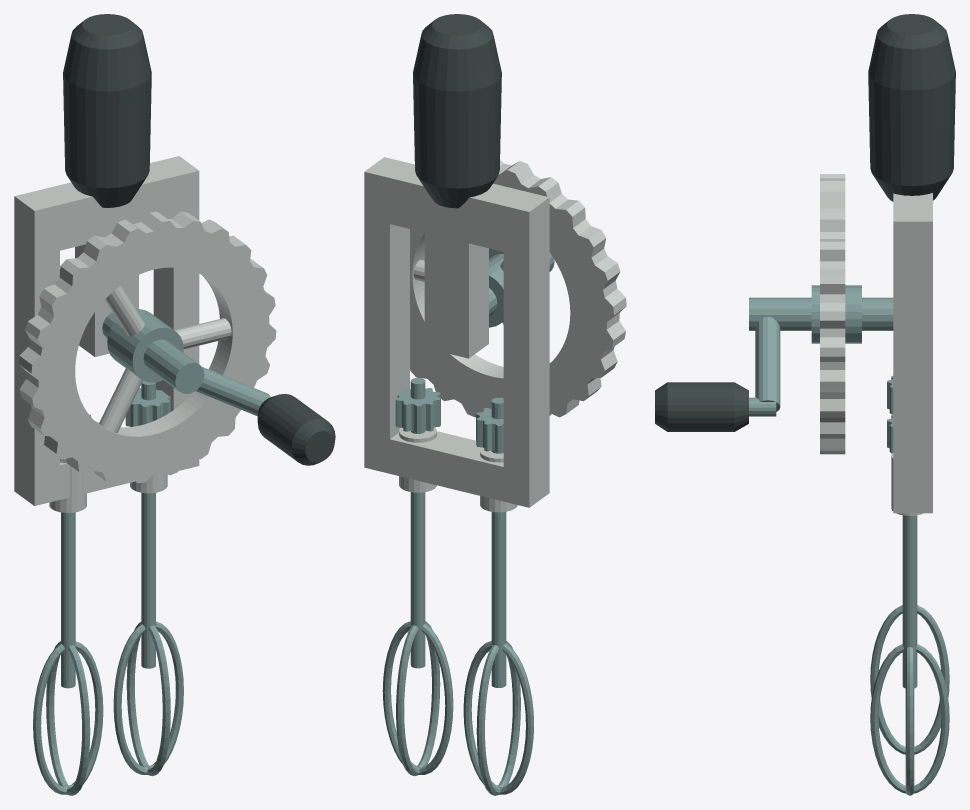
The picture shows the model from 3 angles, left to right: view 1: azimuth 30°, elevation 25°; view 2: azimuth 150°, elevation 25°; view 3: azimuth 270°, elevation 25°; orthographic projection.
Parts seen in each view (by area): view 1: WholeOpenSideToothedWheel, WholeOpenTwinShaftBearingFrame, WholeUpperFixedHandGrip, WholeShortCrankGrip, WholeVerticalBeaterShaft_1, WholeCrossedBeaterLoop_(0, 0), WholeCrossedBeaterLoop_(1, 0), WholeWheelAxleHub, WholeVerticalBeaterShaft_0, WholeCrossedBeaterLoop_(1, 1), WholeCrossedBeaterLoop_(0, 1), WholeTransverseWheelAxle (+6 smaller); view 2: WholeOpenTwinShaftBearingFrame, WholeOpenSideToothedWheel, WholeUpperFixedHandGrip, WholeVerticalBeaterShaft_1, WholeVerticalBeaterShaft_0, WholeCrossedBeaterLoop_(0, 0), WholeCrossedBeaterLoop_(1, 0), WholeCrossedBeaterLoop_(1, 1), WholeCrossedBeaterLoop_(0, 1), WholeFixedSmallToothCollar_1, WholeFixedSmallToothCollar_0, WholeWheelAxleHub (+2 smaller); view 3: WholeUpperFixedHandGrip, WholeOpenTwinShaftBearingFrame, WholeOpenSideToothedWheel, WholeShortCrankGrip, WholeTransverseWheelAxle, WholeCrossedBeaterLoop_(1, 1), WholeVerticalBeaterShaft_1, WholeCrossedBeaterLoop_(0, 1), WholeOffsetCrankArm, WholeWheelAxleHub, WholeCrossedBeaterLoop_(1, 0).
Part boxes in pixels (x1,y1,x2,y2): WholeOpenSideToothedWheel: (19, 211, 276, 483); WholeOpenTwinShaftBearingFrame: (14, 156, 199, 505); WholeUpperFixedHandGrip: (63, 14, 151, 207); WholeShortCrankGrip: (257, 394, 335, 465); WholeVerticalBeaterShaft_1: (141, 380, 155, 668); WholeCrossedBeaterLoop_(0, 0): (33, 641, 103, 794); WholeCrossedBeaterLoop_(1, 0): (113, 621, 183, 774); WholeWheelAxleHub: (107, 309, 183, 382); WholeVerticalBeaterShaft_0: (61, 512, 75, 688); WholeCrossedBeaterLoop_(1, 1): (126, 621, 170, 776); WholeCrossedBeaterLoop_(0, 1): (46, 641, 90, 795); WholeTransverseWheelAxle: (102, 312, 204, 393); WholeOpenTwinShaftBearingFrame: (364, 157, 549, 507); WholeOpenSideToothedWheel: (410, 159, 626, 417); WholeUpperFixedHandGrip: (413, 14, 501, 208); WholeVerticalBeaterShaft_1: (410, 378, 425, 668); WholeVerticalBeaterShaft_0: (491, 397, 506, 687); WholeCrossedBeaterLoop_(0, 0): (463, 641, 533, 794); WholeCrossedBeaterLoop_(1, 0): (382, 621, 453, 774); WholeCrossedBeaterLoop_(1, 1): (396, 621, 440, 776); WholeCrossedBeaterLoop_(0, 1): (476, 641, 520, 795); WholeFixedSmallToothCollar_1: (395, 388, 440, 432); WholeFixedSmallToothCollar_0: (476, 408, 503, 452); WholeWheelAxleHub: (489, 254, 503, 327); WholeUpperFixedHandGrip: (868, 14, 955, 201); WholeOpenTwinShaftBearingFrame: (893, 193, 932, 513); WholeOpenSideToothedWheel: (820, 174, 845, 454); WholeShortCrankGrip: (655, 382, 748, 431); WholeTransverseWheelAxle: (749, 297, 893, 330); WholeCrossedBeaterLoop_(1, 1): (870, 644, 949, 793); WholeVerticalBeaterShaft_1: (902, 515, 917, 688); WholeCrossedBeaterLoop_(0, 1): (870, 605, 949, 754); WholeOffsetCrankArm: (755, 316, 780, 411); WholeWheelAxleHub: (811, 285, 861, 343); WholeCrossedBeaterLoop_(1, 0): (905, 647, 914, 795).
Bounding box in the file's own units: 0.1337 × 0.396 × 0.144.
